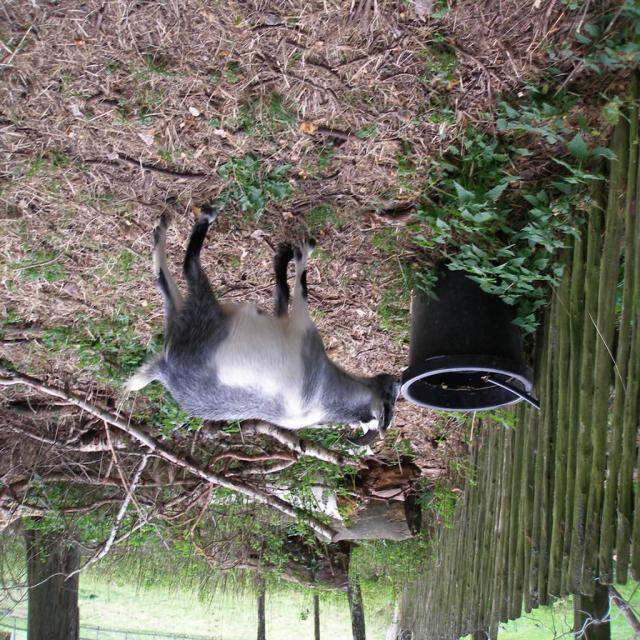Goat: (122, 206, 402, 448)
